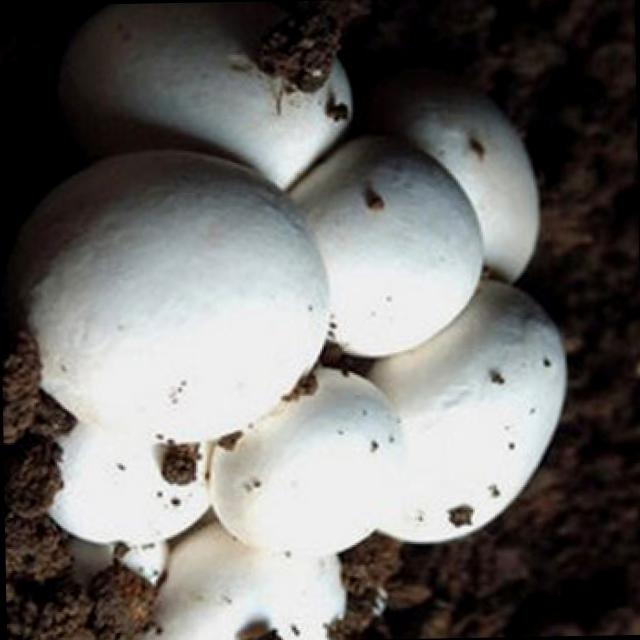Agaricus bisporus: (32, 121, 328, 474), (381, 288, 573, 570), (308, 116, 476, 362), (220, 366, 406, 562)
